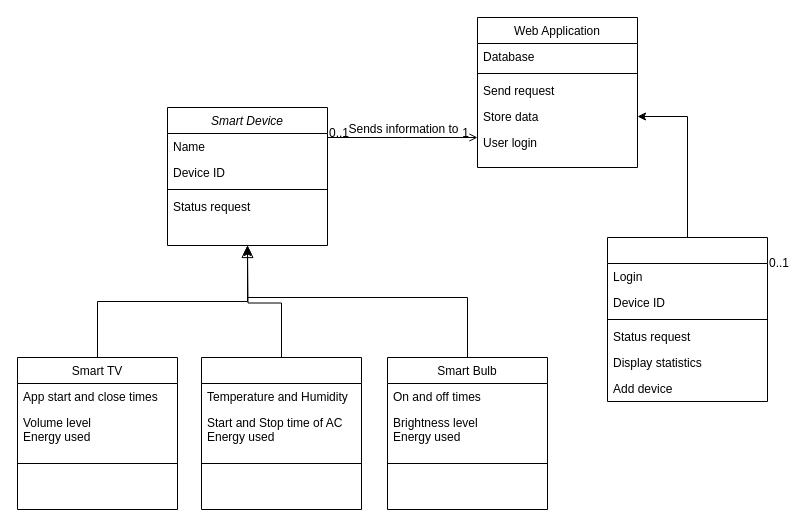
This 807x527 diagram has some shape labels left out. Each missing label, with the box of its shape:
Smart Thermostat: (200, 356, 362, 510)
User app: (606, 236, 768, 402)
